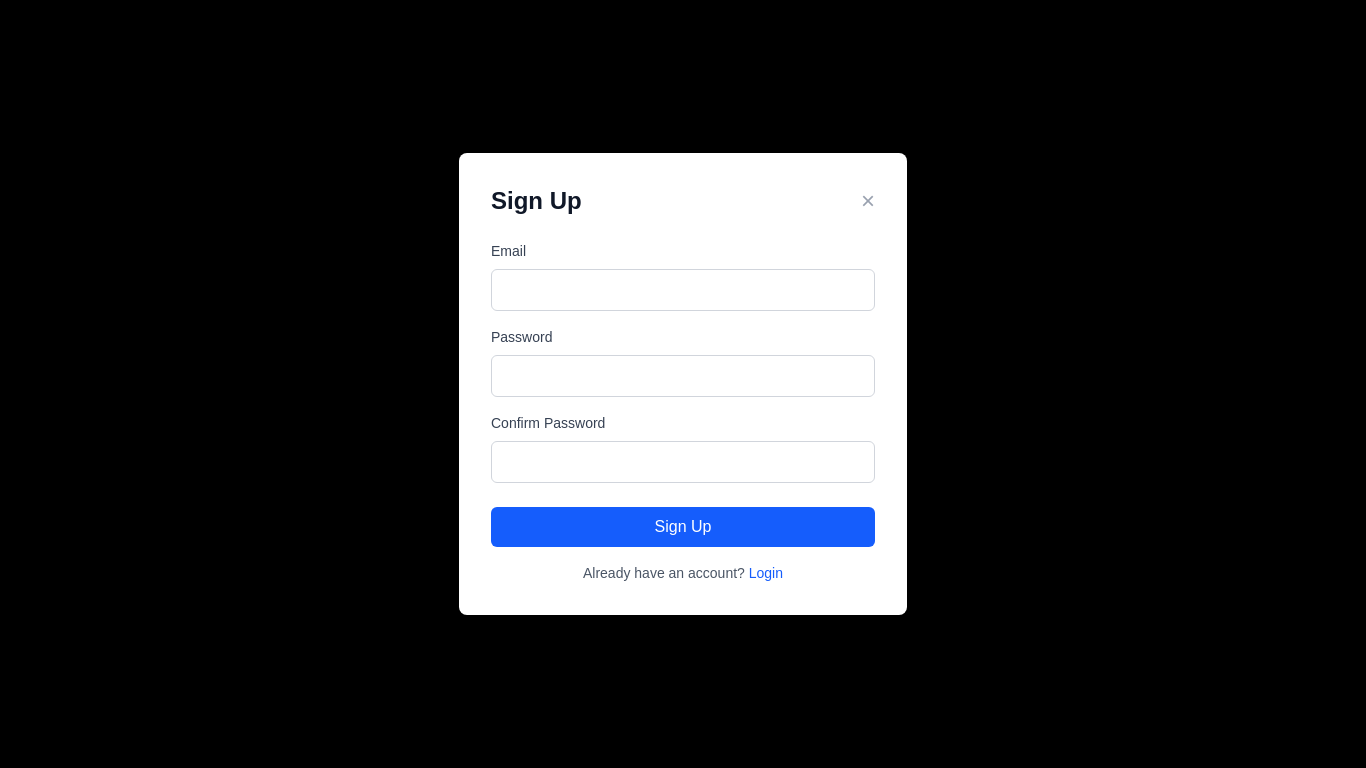
Test: SignupModal › shows a server error message when signup fails
Type "new@example.com" into the field labelled "Email" at (683, 290), box [491, 269, 875, 311]
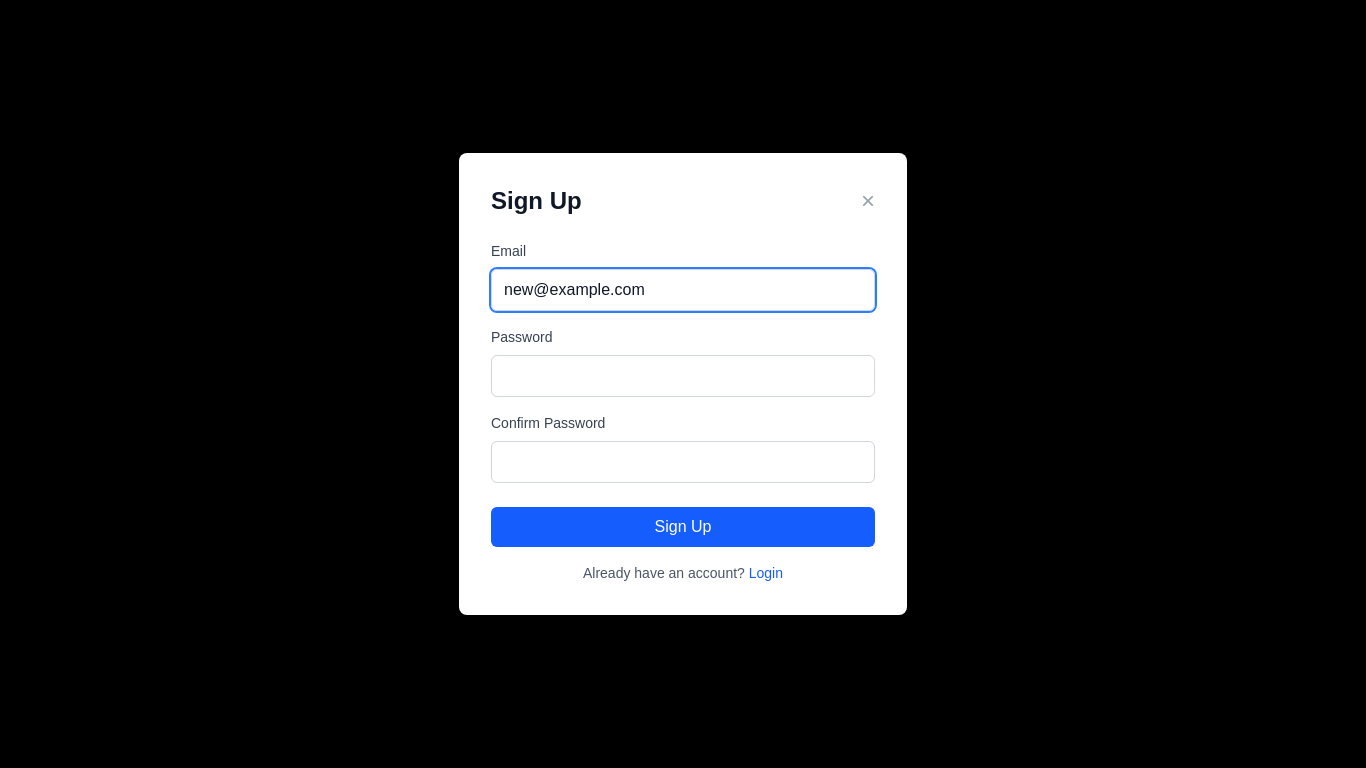
Type "secret123" into the password field labelled "Password" at (683, 376), box [491, 355, 875, 397]
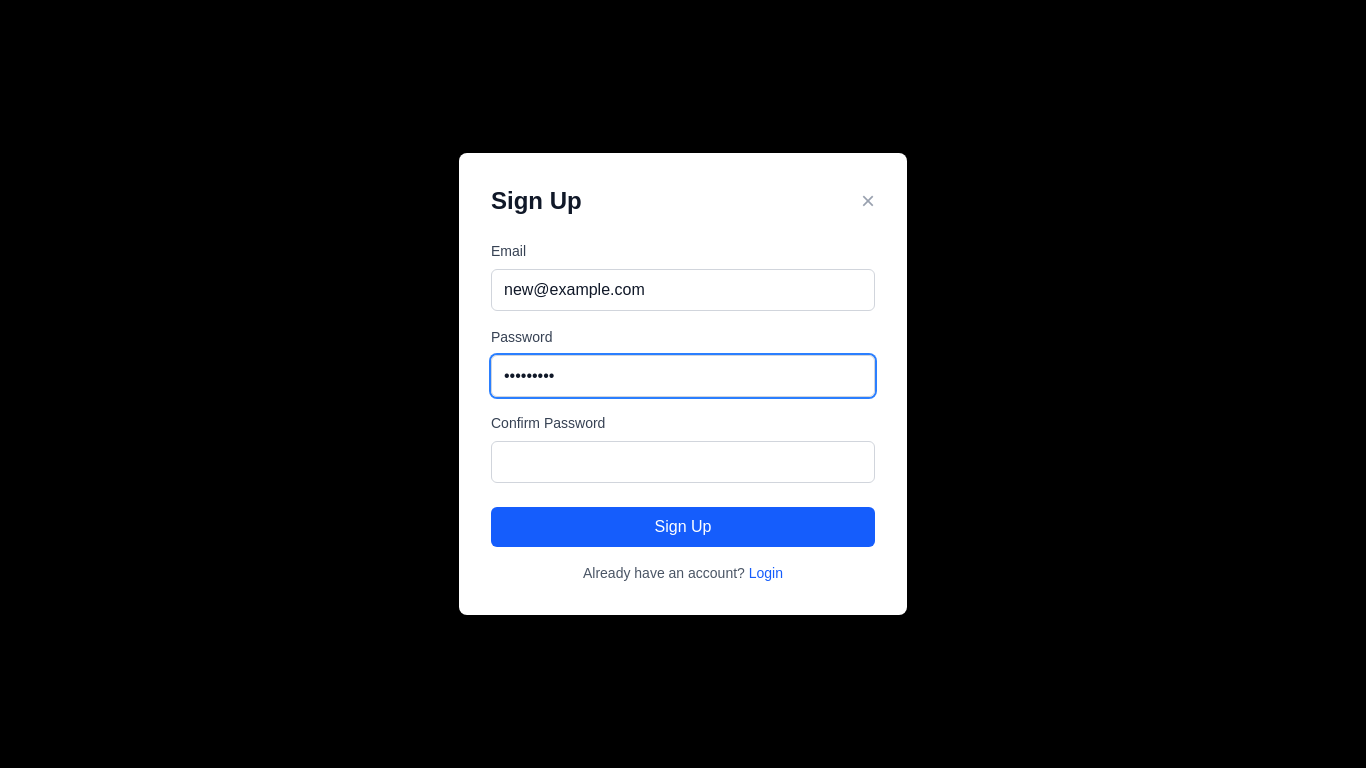
Type "secret123" into the password field labelled "Confirm Password" at (683, 462), box [491, 441, 875, 483]
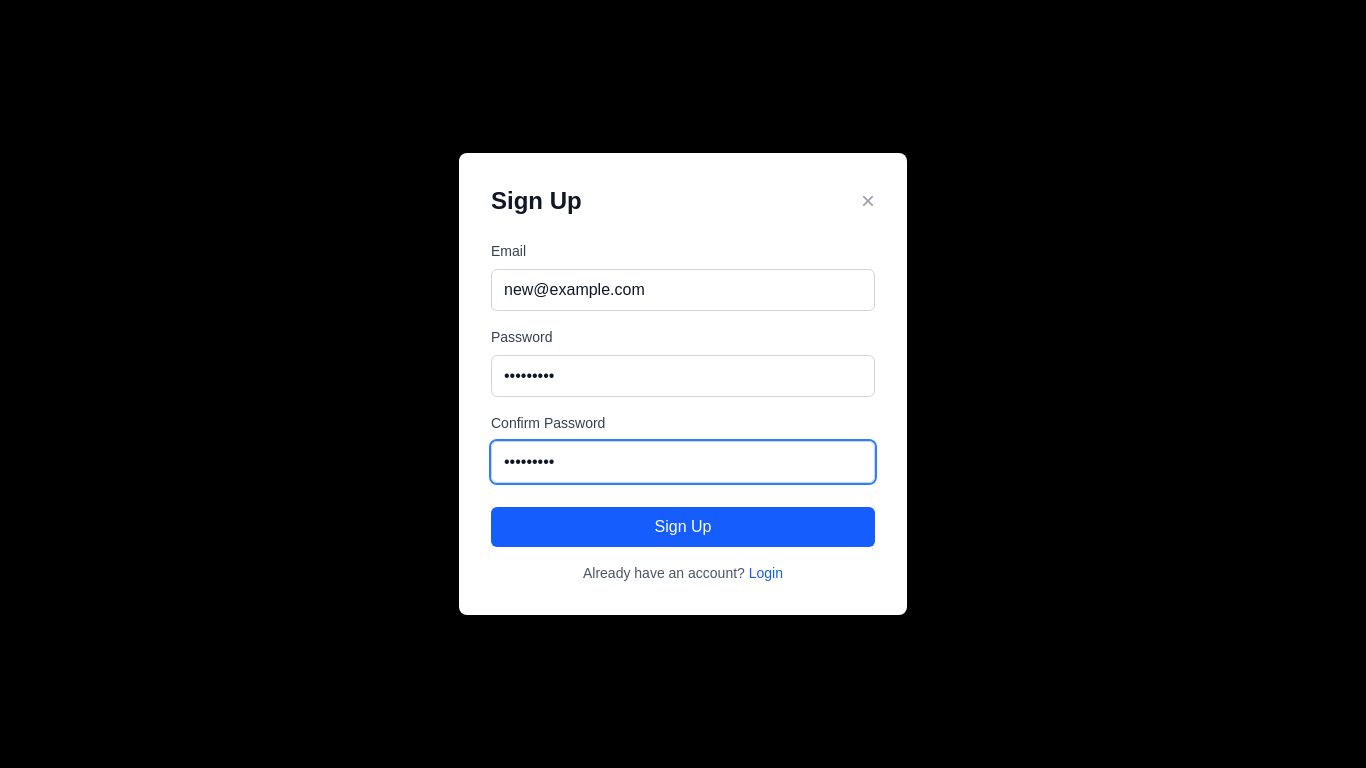
Click the button "Sign Up" at (683, 527), box [491, 507, 875, 547]
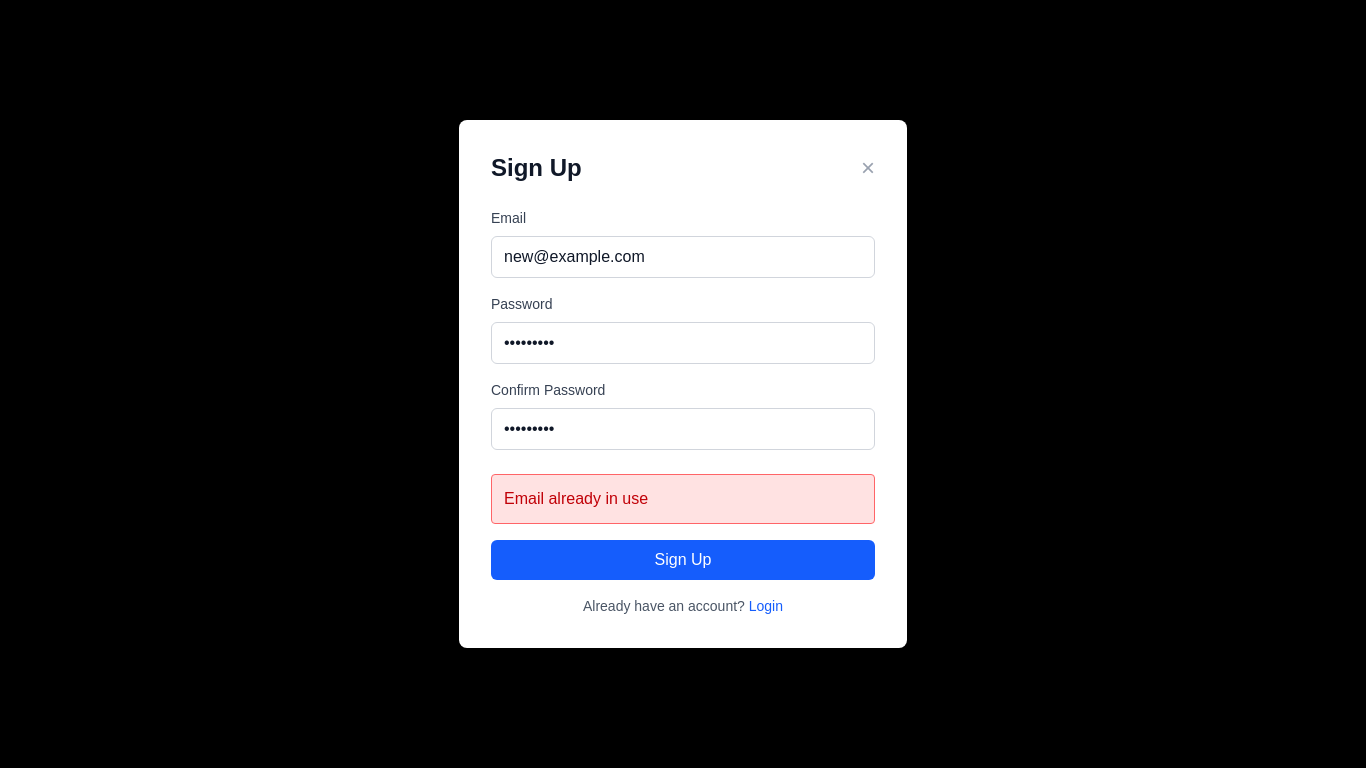
Result: the text "Email already in use" is shown at [491, 474, 875, 524]
